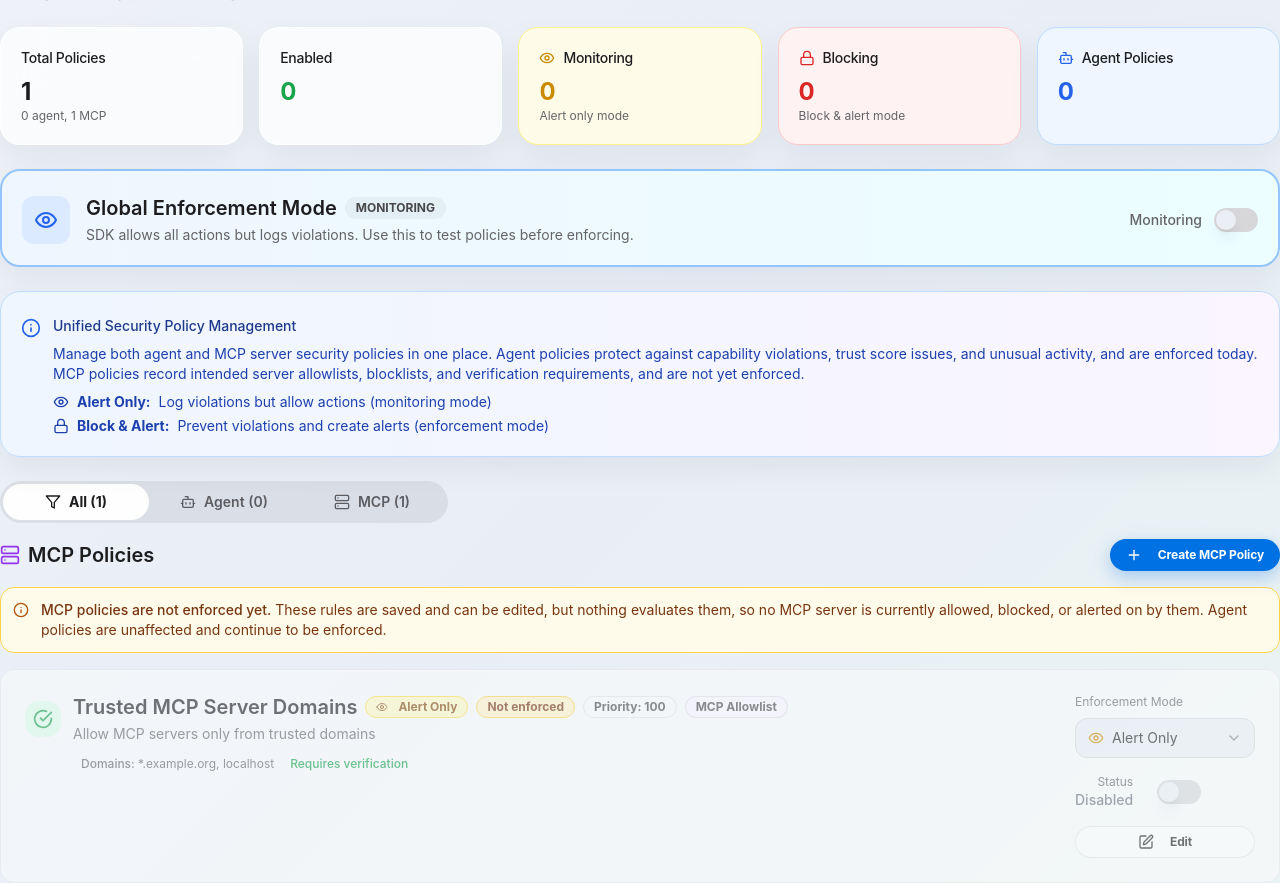
Test case: Security policies page, MCP policy editing › opens the Edit MCP Policy dialog from the policy card with the stored rules loaded
(page scrolled)
Click the button "Edit" at x=1165, y=842, box [1075,826,1255,858]
(page scrolled)
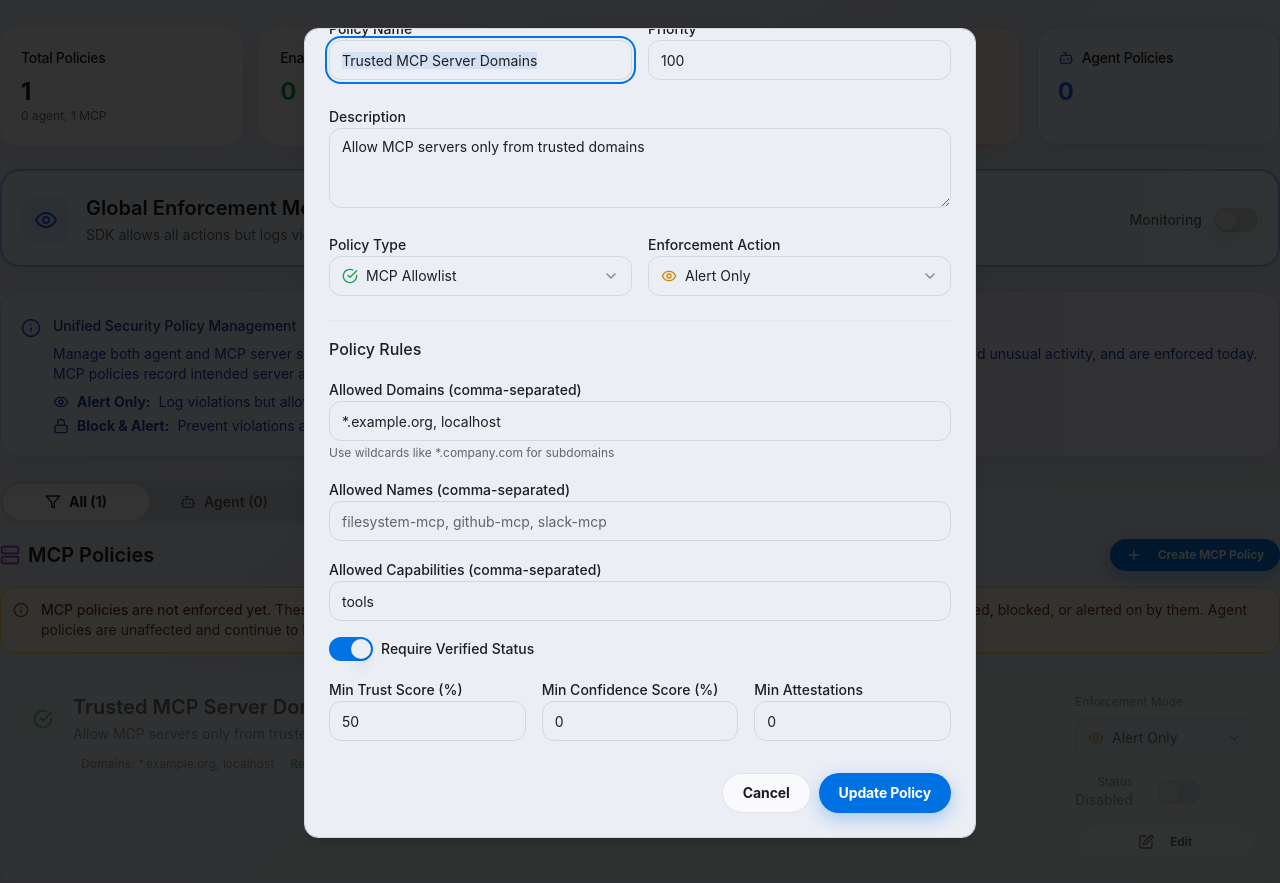
Now the field below "Policy Name" holds "Trusted MCP Server Domains", box [329,40,632,80]
Now the field below "Allowed Domains (comma-separated)" holds "*.example.org, localhost", box [329,401,951,441]
Now the number field below "Min Trust Score (%)" holds "50", box [329,701,526,741]
